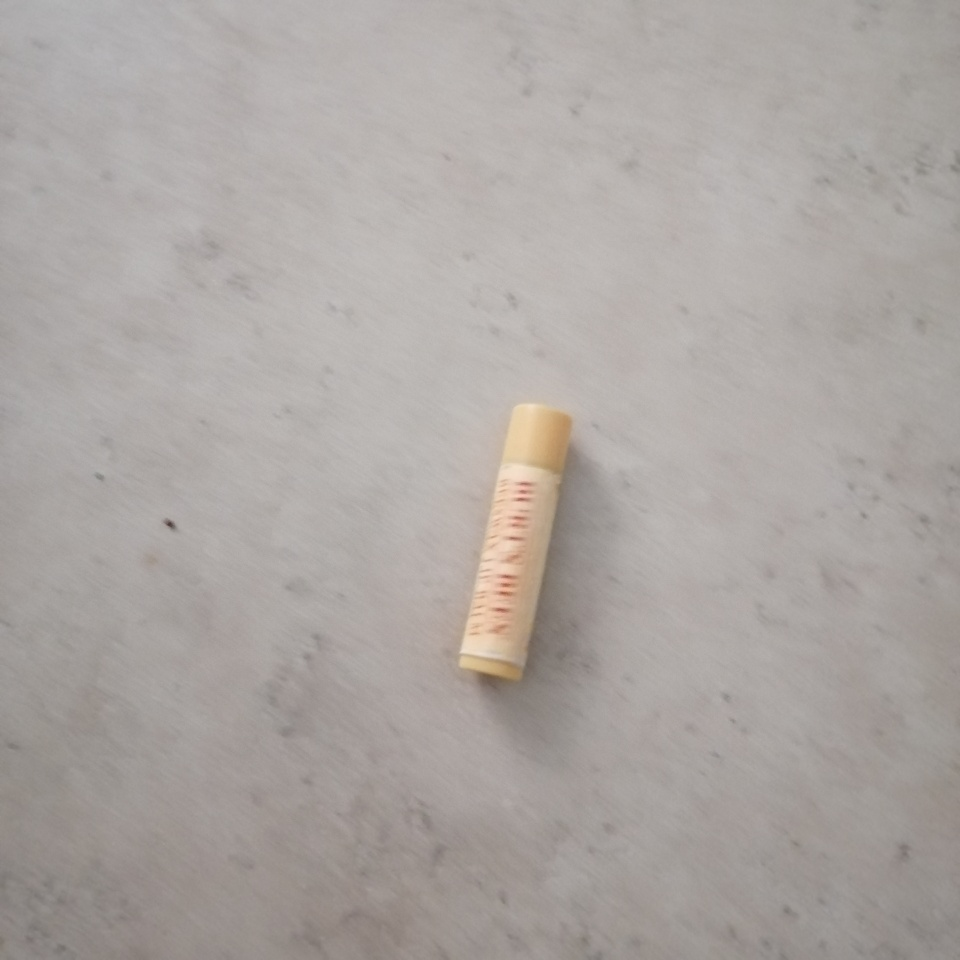chapstick: (457, 403, 575, 682)
